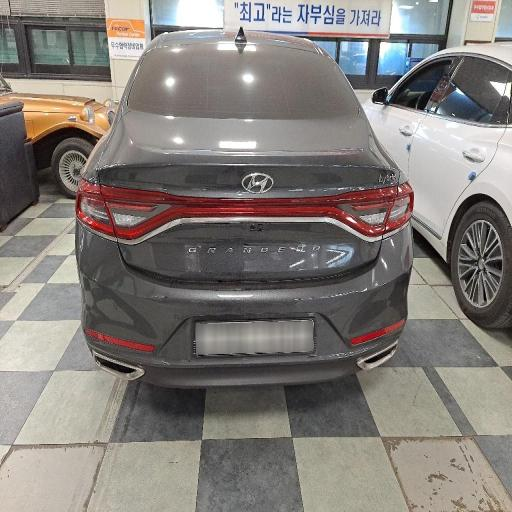dent: (136, 154, 401, 315)
